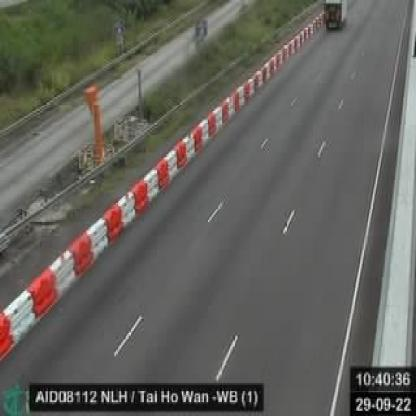Car: (320, 0, 348, 33)
